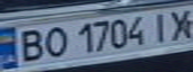0: (109, 16, 130, 51)
1: (72, 19, 93, 54)
4: (127, 14, 151, 48)
7: (90, 18, 112, 53)
B: (9, 27, 48, 64)
I: (148, 10, 175, 43)
O: (36, 25, 69, 60)
X: (163, 7, 193, 42)
